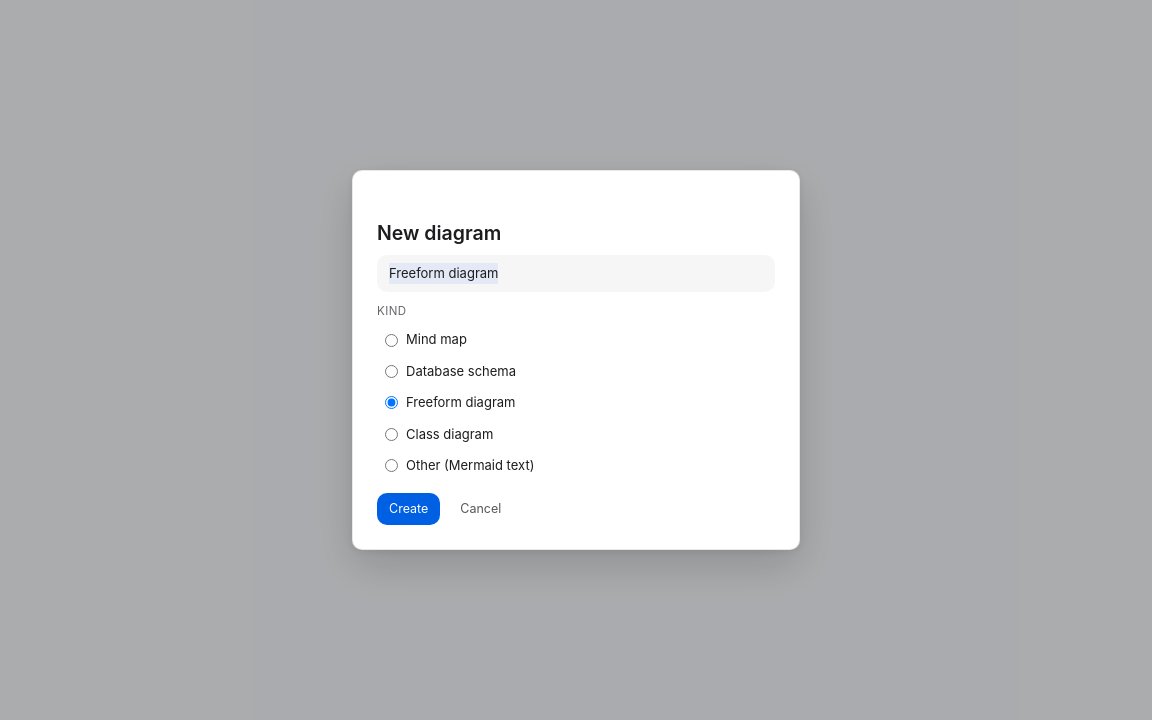
it: naming a new diagram › chooses a kind by its words too
Click the text "Mind map". click: coordinates (426, 339)
box: [385,331,467,347]
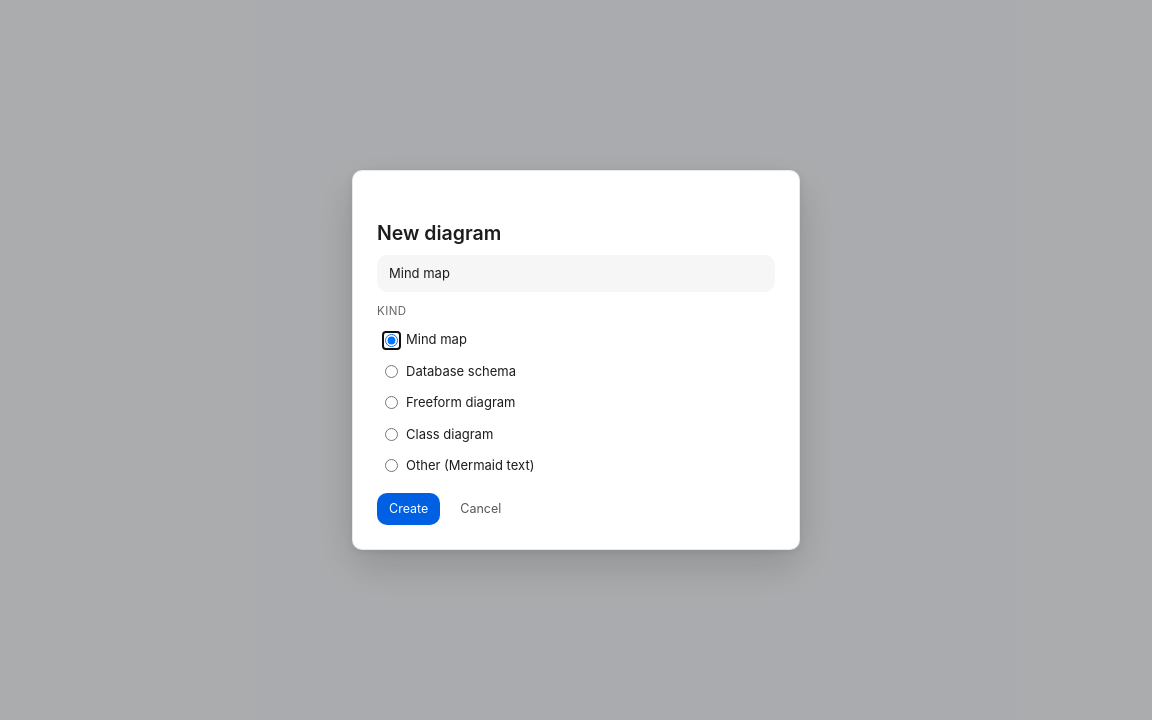
Check: the radio button labelled "Mind map" is checked, box [385,334,398,347]
Check: the field named "Name of the diagram" holds "Mind map", box [377,255,775,292]
